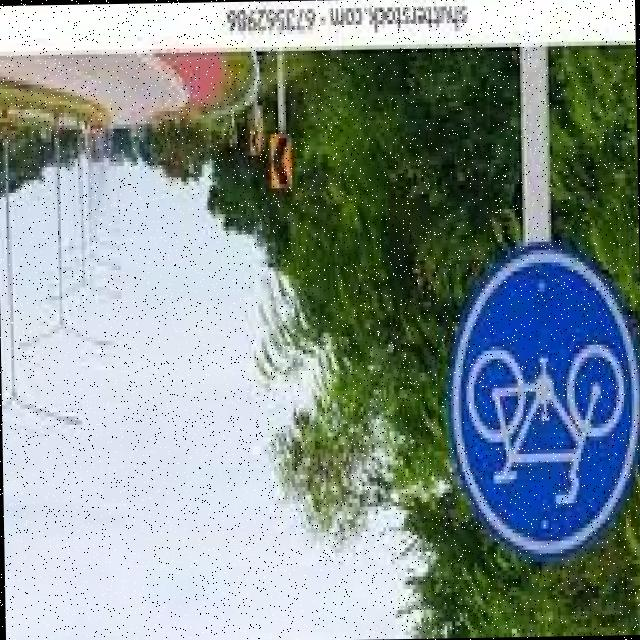bicycle: (447, 244, 640, 571)
